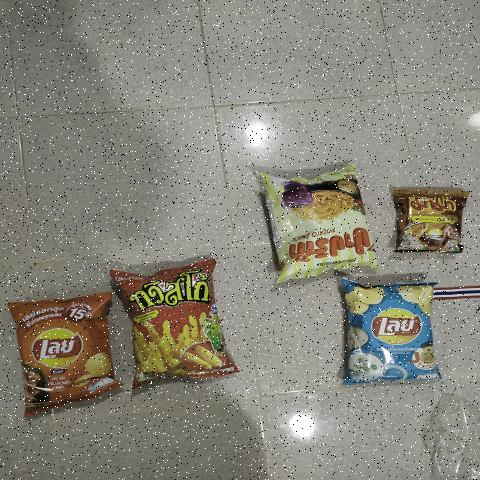lay_blue: (351, 290, 432, 374)
mama: (402, 193, 454, 245)
paprika: (272, 175, 367, 279)
twisco: (117, 272, 234, 379)
